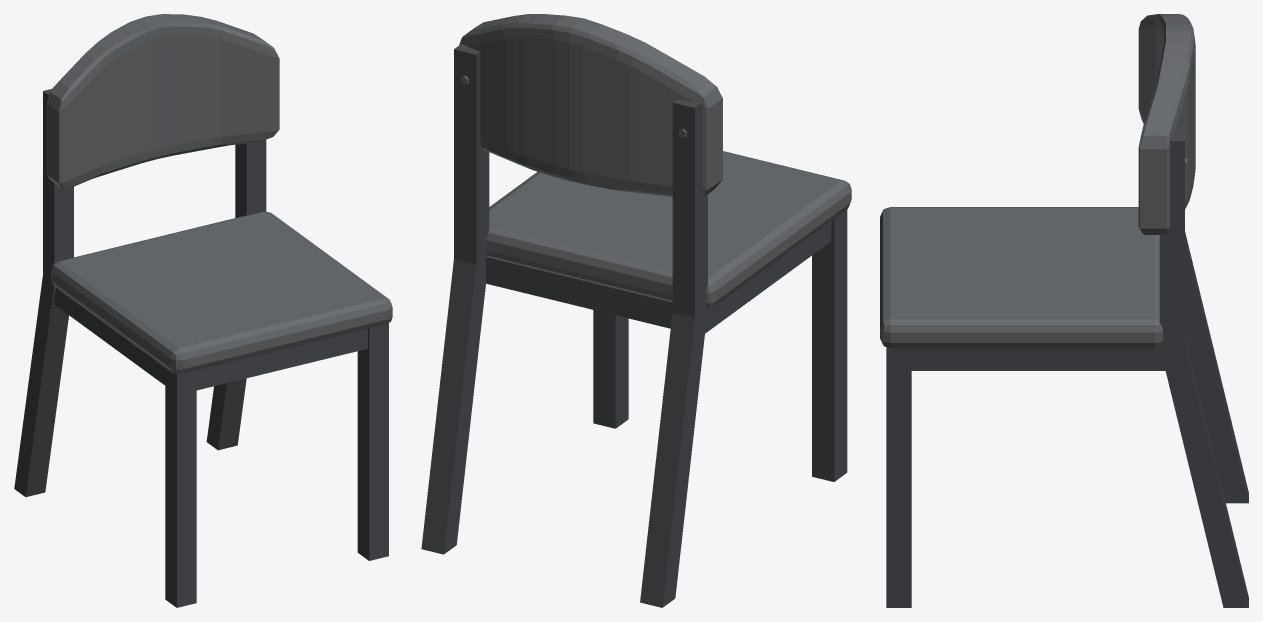
The model's file is Chair_07_C1.fbx.
3 renders of one model, left to right at view 1: azimuth 30°, elevation 25°; view 2: azimuth 150°, elevation 25°; view 3: azimuth 270°, elevation 25°, orthographic. The views are drawn at different scales.
Parts seen in each view (by area): view 1: Chair_07_C1; view 2: Chair_07_C1; view 3: Chair_07_C1.
Boxes of the visible parts, x1,y1,x2,y2 form: Chair_07_C1: (14,14,392,607); Chair_07_C1: (421,14,851,607); Chair_07_C1: (880,14,1248,607).
Bounding box in the file's own units: 45 × 90.46 × 58.24.
